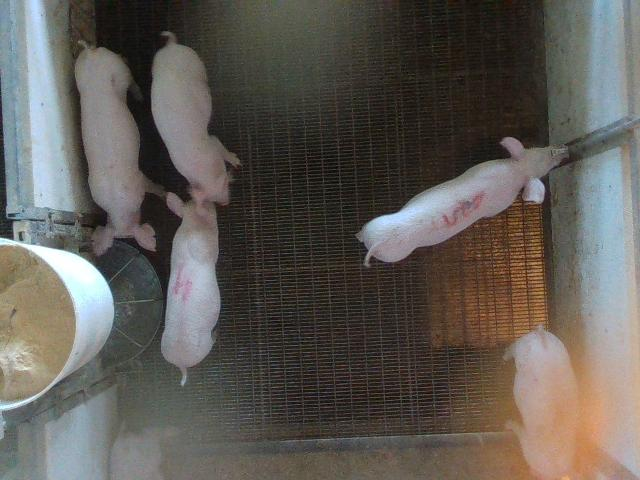pig-1: (509, 328, 578, 479)
pig-3: (356, 138, 569, 266)
pig-4: (161, 192, 221, 384)
